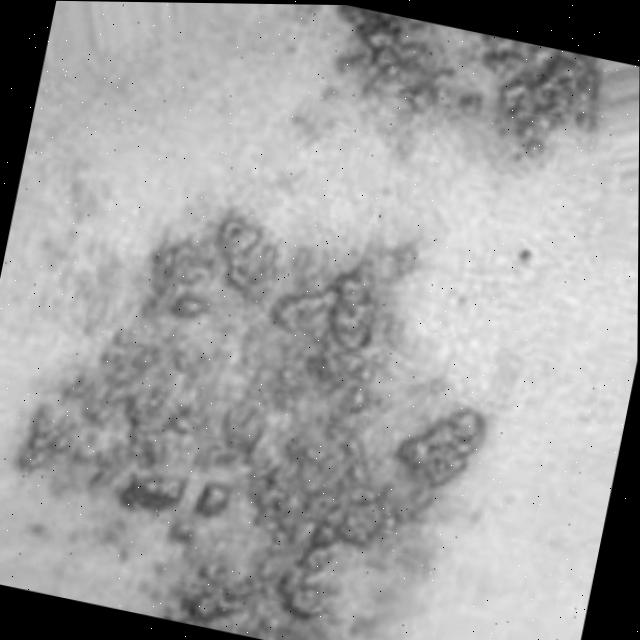Shingles: (10, 183, 516, 640), (323, 5, 609, 174)
